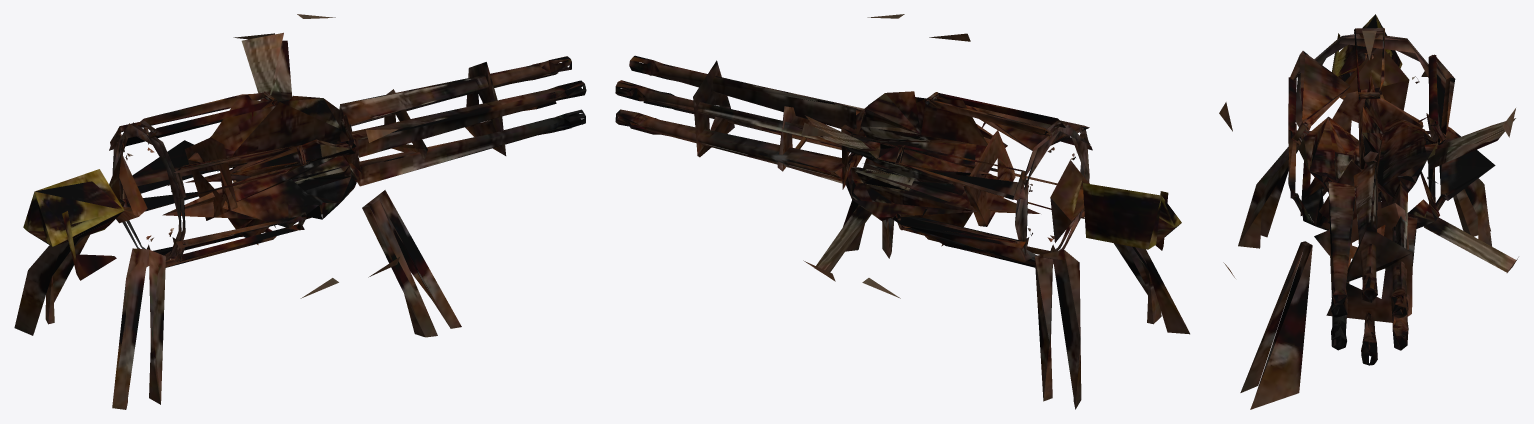
File: scrap_gatling.glb
3 views of the same model, side by side, from view 1: azimuth 30°, elevation 25°; view 2: azimuth 150°, elevation 25°; view 3: azimuth 270°, elevation 25° (orthographic). The views are drawn at different scales.
Parts seen in each view (by area): view 1: scrap_gatling; view 2: scrap_gatling; view 3: scrap_gatling.
Part boxes in pixels (x1,y1,x2,y2): scrap_gatling: [14, 14, 586, 409]; scrap_gatling: [615, 14, 1189, 409]; scrap_gatling: [1219, 14, 1518, 409].
Size of what is drawn, in the model's own units: 1.2 by 0.6383 by 0.5387.
1 material, 1 textured.
